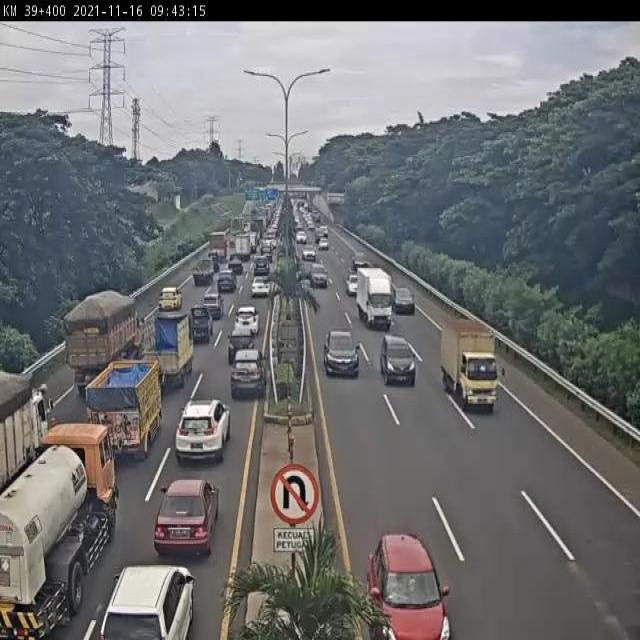car: (366, 532, 453, 640), (102, 565, 193, 640), (155, 480, 218, 557), (175, 398, 232, 466), (379, 334, 417, 386), (229, 354, 264, 406), (323, 327, 359, 377), (228, 335, 254, 369), (389, 286, 415, 314), (190, 262, 212, 290), (156, 288, 180, 313), (234, 307, 257, 333), (201, 295, 222, 321), (216, 272, 236, 293), (250, 275, 269, 297), (309, 263, 326, 285), (254, 259, 271, 280), (227, 256, 243, 275), (260, 242, 273, 262), (205, 254, 217, 274), (302, 242, 315, 258), (348, 275, 358, 293), (318, 237, 326, 248)
small truck: (440, 319, 499, 413), (187, 306, 214, 342)
truck-l-: (62, 292, 140, 396), (0, 371, 47, 496)
truck-m-: (1, 422, 119, 638), (88, 363, 162, 461), (138, 312, 192, 389), (354, 267, 393, 329), (208, 232, 227, 263), (235, 234, 252, 262)
